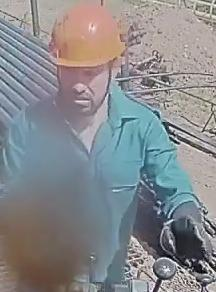gloves: (157, 210, 215, 283)
helmet: (48, 1, 126, 75)
vest: (6, 88, 170, 286)
